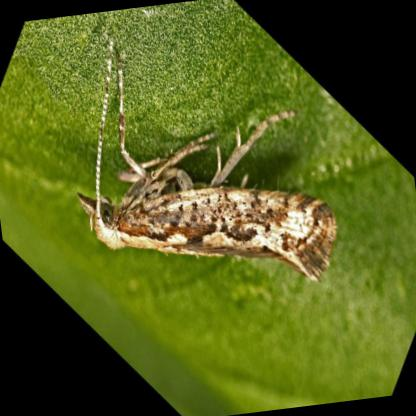plutella: (77, 55, 337, 284)
